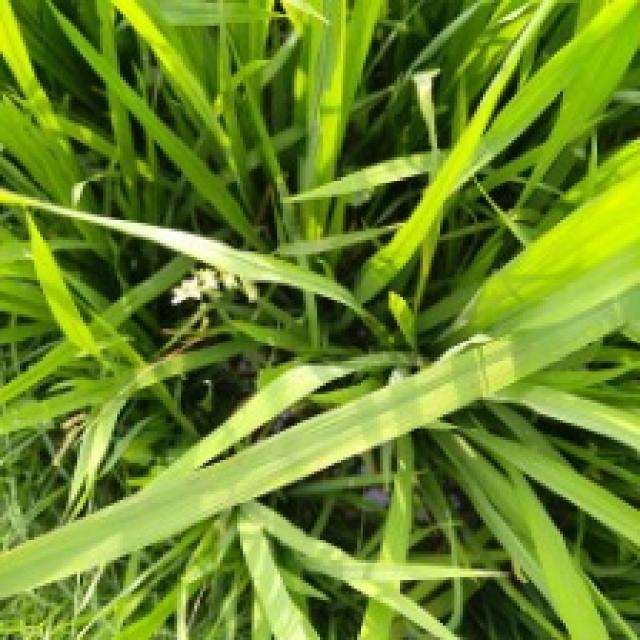Rice___Brown_Spot: (0, 245, 637, 602)
